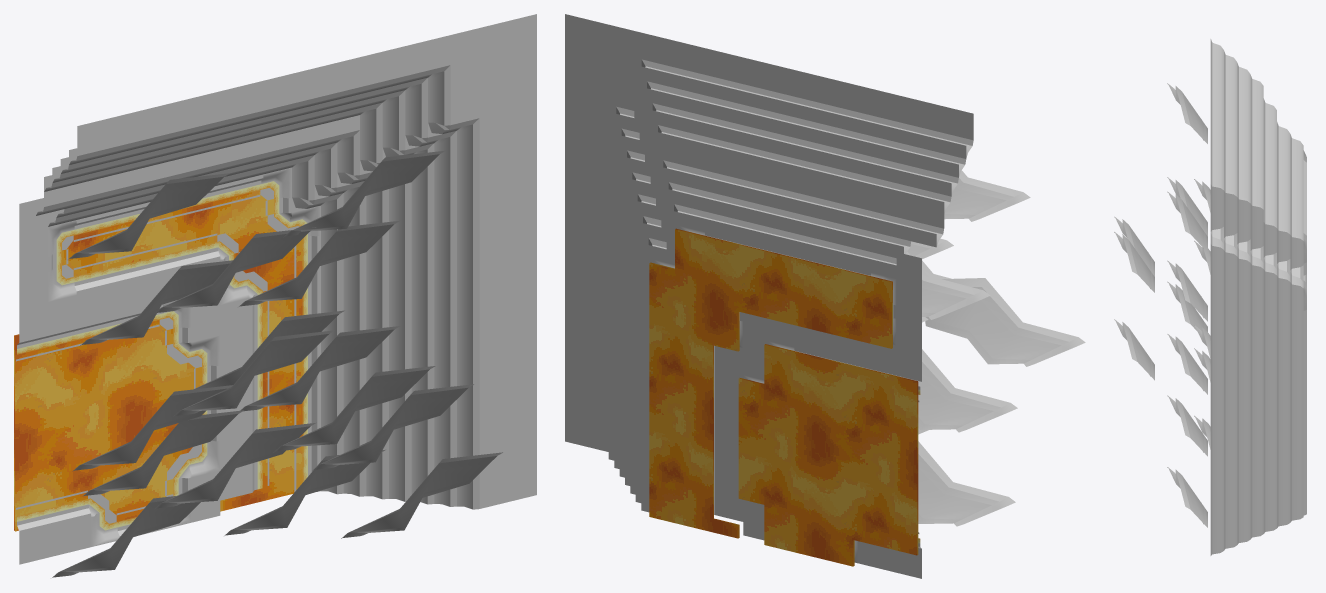
The model's file is Mount-Undara-4_01_00.obj.
The picture shows the model from 3 angles, left to right: view 1: azimuth 30°, elevation 25°; view 2: azimuth 150°, elevation 25°; view 3: azimuth 270°, elevation 25°; orthographic projection. The views are drawn at different scales.
Parts seen in each view (by area): view 1: map; view 2: map; view 3: map.
Boxes of the visible parts, x1,y1,x2,y2 form: map: (14,14,536,577); map: (565,14,1085,578); map: (1114,39,1306,555).
Size of the model in its own units: 36.59 by 32 by 14.9.
